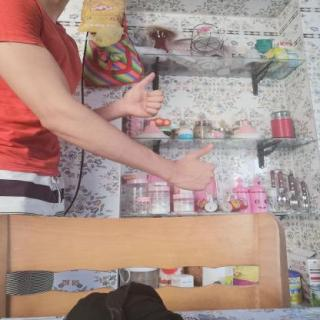ALIF: (111, 64, 171, 124), (169, 137, 226, 198)
